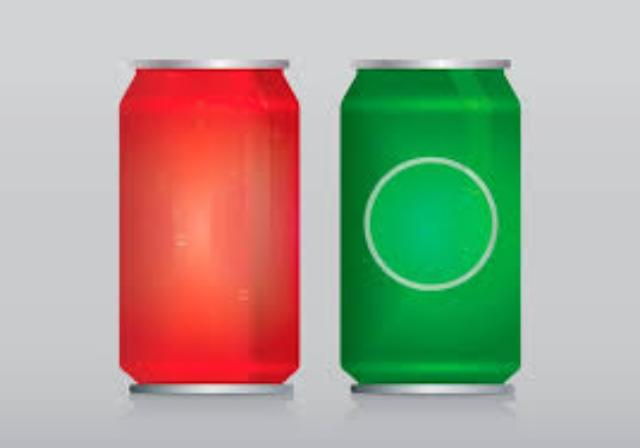metal: (117, 57, 294, 392), (339, 57, 516, 384)
